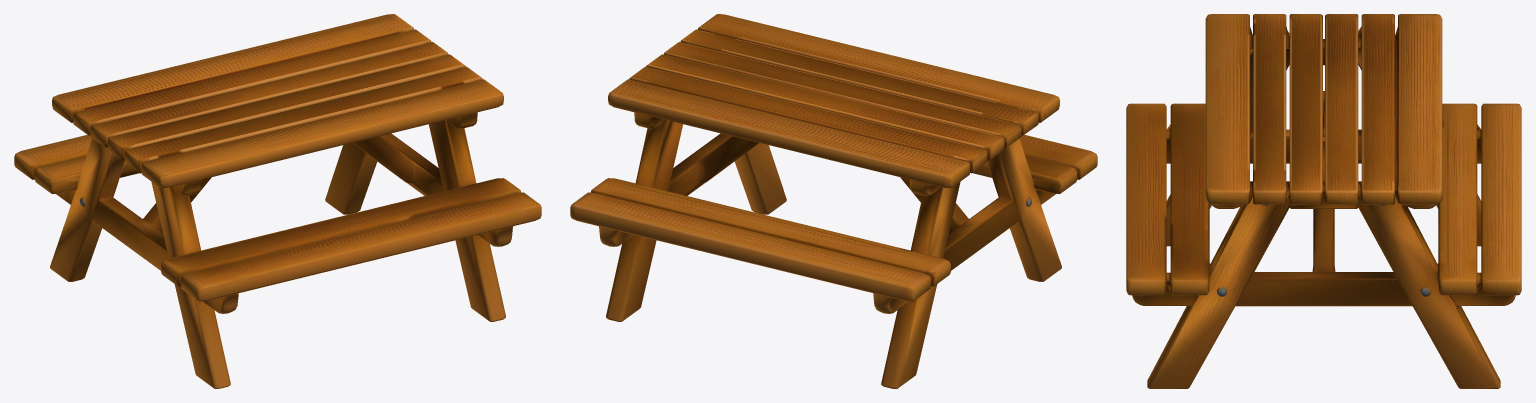
Rendered from a_wooden_picnic_table_ce1238fe_v1.glb.
3 renders of one model, left to right at view 1: azimuth 30°, elevation 25°; view 2: azimuth 150°, elevation 25°; view 3: azimuth 270°, elevation 25°, orthographic. The views are drawn at different scales.
Visible parts, largest first — view 1: material; view 2: material; view 3: material.
Part boxes in pixels (x1,y1,x2,y2): material: (14,14,541,388); material: (570,14,1097,388); material: (1126,14,1521,388).
Bounding box in the file's own units: 1.9 × 1.05 × 1.78.
1 material, 1 textured.
